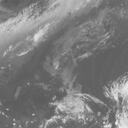cyclone: (41, 53, 92, 115)
